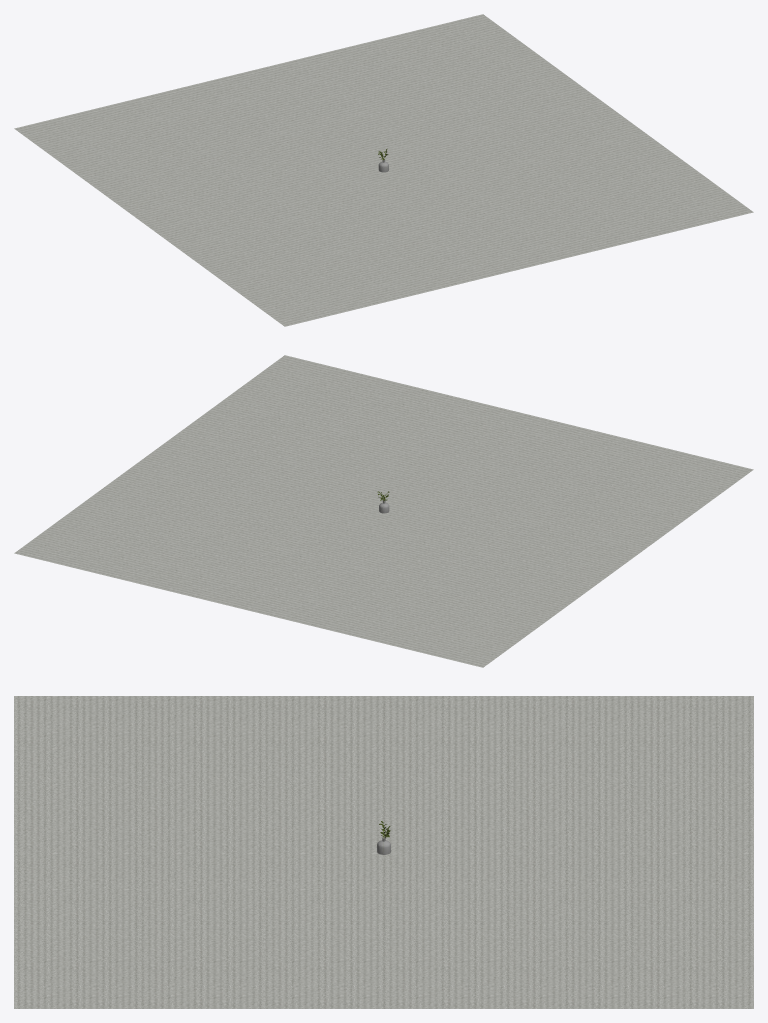
The model's file is Vase5.glb.
3 views of the same model, one above another, from view 1: azimuth 30°, elevation 25°; view 2: azimuth 150°, elevation 25°; view 3: azimuth 270°, elevation 25° (orthographic). The views are drawn at different scales.
Parts seen in each view (by area): view 1: 475e7ea8-f084-41b0-8b55-af170d42533d; view 2: 475e7ea8-f084-41b0-8b55-af170d42533d; view 3: 475e7ea8-f084-41b0-8b55-af170d42533d.
Boxes of the visible parts, box(x1,y1,x2,y2) form: 475e7ea8-f084-41b0-8b55-af170d42533d: box(14, 14, 753, 326); 475e7ea8-f084-41b0-8b55-af170d42533d: box(14, 355, 753, 667); 475e7ea8-f084-41b0-8b55-af170d42533d: box(14, 696, 753, 1008).
Size of the model in its own units: 4 by 0.1691 by 4.
4 materials, 3 textured.
